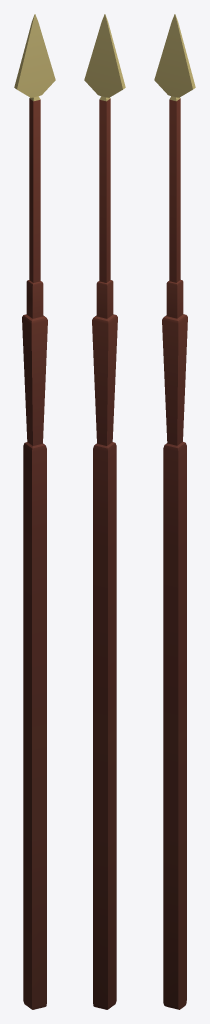
Rendered from MuiscasChiminigaguaLanza.fbx.
3 views of the same model, side by side, from view 1: azimuth 30°, elevation 25°; view 2: azimuth 150°, elevation 25°; view 3: azimuth 330°, elevation 25° (orthographic).
Parts seen in each view (by area): view 1: LanzaChiminigagua; view 2: LanzaChiminigagua; view 3: LanzaChiminigagua.
Part boxes in pixels (x1,y1,x2,y2): LanzaChiminigagua: (14, 14, 55, 1009); LanzaChiminigagua: (84, 14, 125, 1009); LanzaChiminigagua: (154, 14, 195, 1009).
Size of the model in its own units: 20.74 by 506 by 8.84.
Materials: 1 (1 with a texture image).
